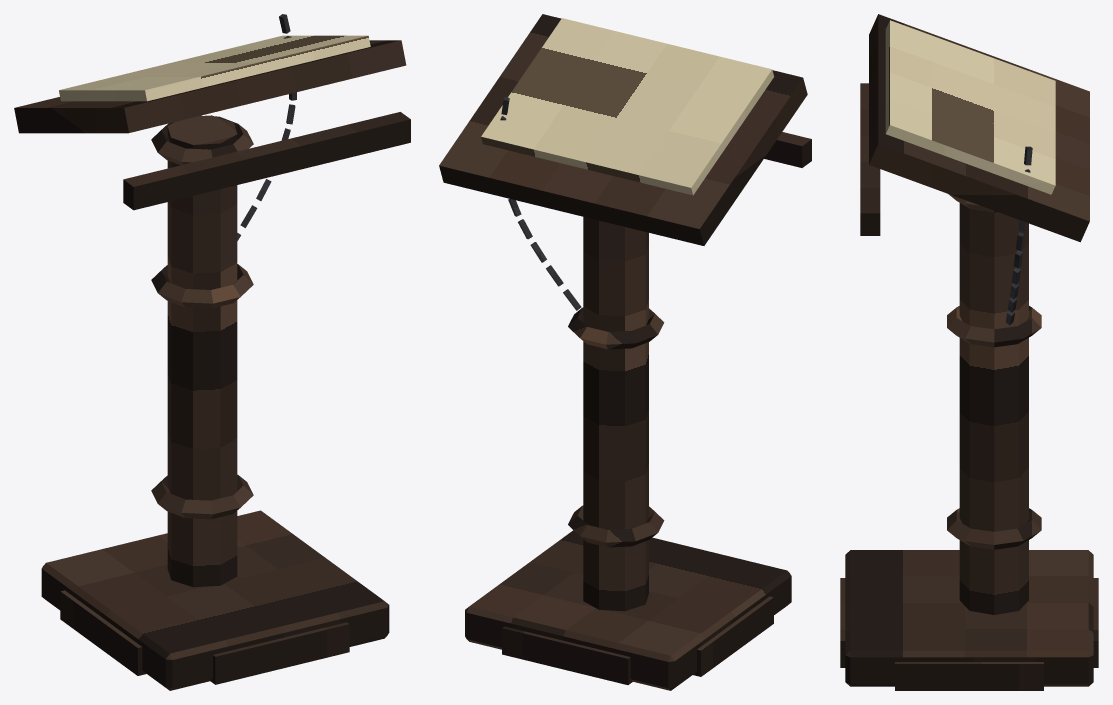
File: chained_lectern.obj
The picture shows the model from 3 angles, left to right: view 1: azimuth 30°, elevation 25°; view 2: azimuth 150°, elevation 25°; view 3: azimuth 270°, elevation 25°; orthographic projection. The views are drawn at different scales.
Visible parts, largest first — view 1: chained_lectern; view 2: chained_lectern; view 3: chained_lectern.
Part boxes in pixels (x1,y1,x2,y2): chained_lectern: (14, 14, 410, 690); chained_lectern: (439, 14, 811, 690); chained_lectern: (840, 14, 1098, 690).
Bounding box in the file's own units: 0.62 × 1.25 × 0.52.
